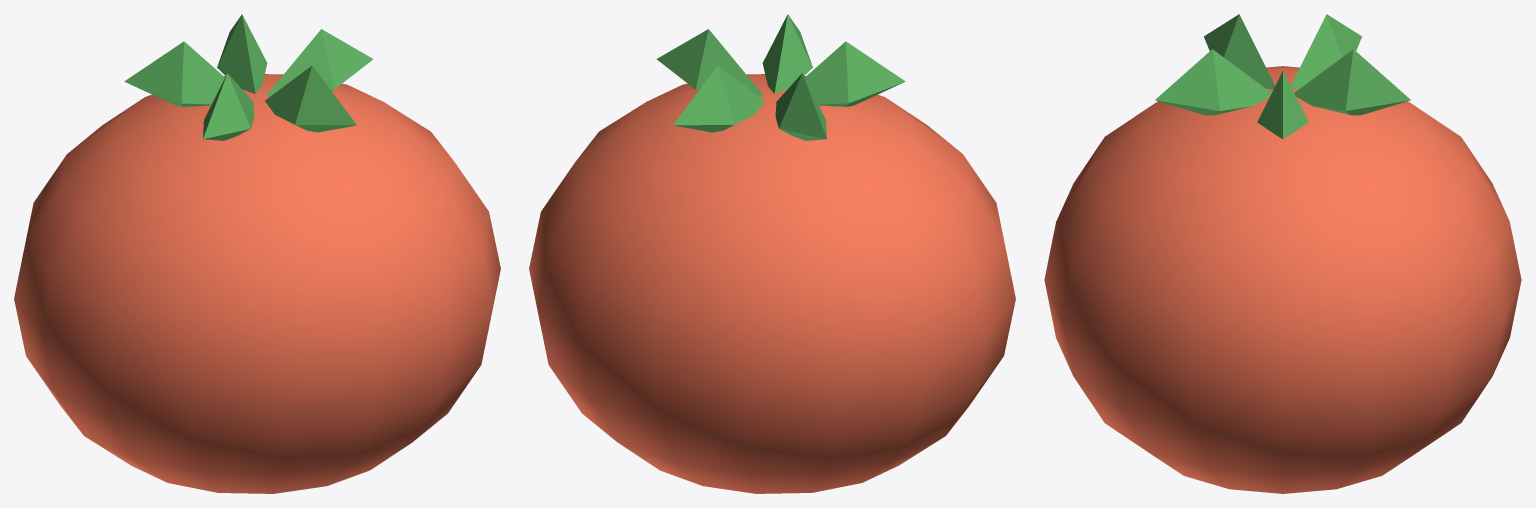
The model's file is Tomato.fbx.
The picture shows the model from 3 angles, left to right: view 1: azimuth 30°, elevation 25°; view 2: azimuth 150°, elevation 25°; view 3: azimuth 270°, elevation 25°; orthographic projection.
Parts seen in each view (by area): view 1: GEO-Body; view 2: GEO-Body; view 3: GEO-Body.
Boxes of the visible parts, x1=… form: GEO-Body: x1=14, y1=14, x2=500, y2=493; GEO-Body: x1=529, y1=14, x2=1015, y2=493; GEO-Body: x1=1044, y1=14, x2=1521, y2=493.
Bounding box in the file's own units: 0.48 × 0.456 × 0.46.
